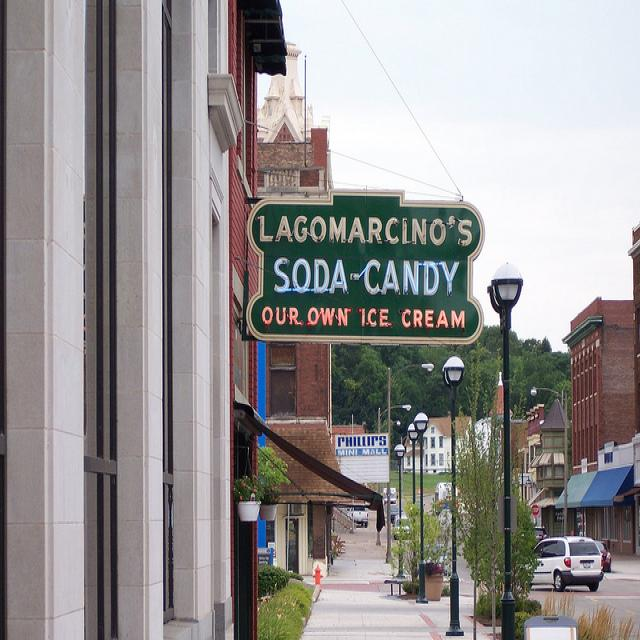Vehicle: (532, 536, 604, 592), (593, 541, 611, 571), (394, 517, 411, 540), (354, 507, 369, 528), (439, 496, 460, 510), (534, 525, 550, 541), (391, 506, 399, 523)
